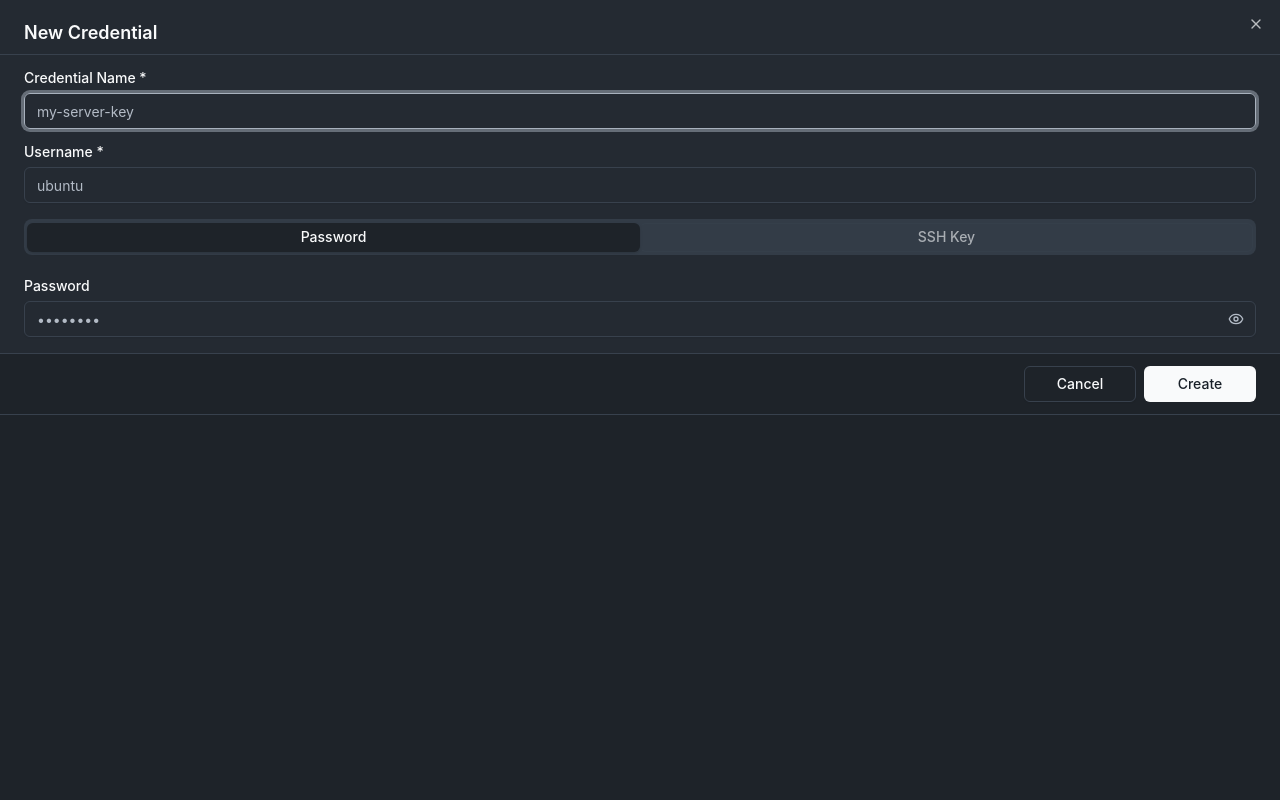
Test: Unsaved-changes guard — CredentialForm › 'Keep editing' dismisses the prompt and keeps the form open
The width and height of the screenshot is (1280, 800).
Type "x" into the field labelled "Credential Name *" at (640,111), box [24,93,1256,129]
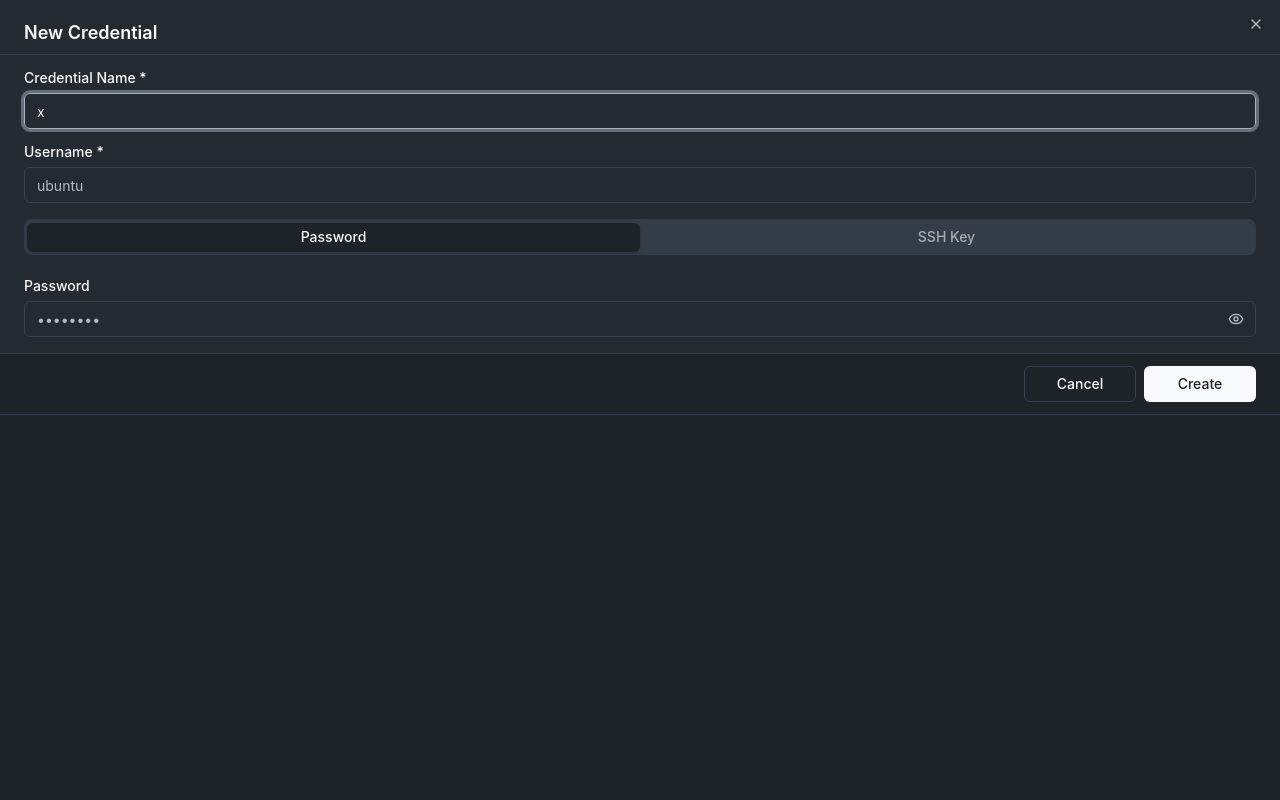
Click the button "Cancel" at (1080,384), box [1024,366,1136,402]
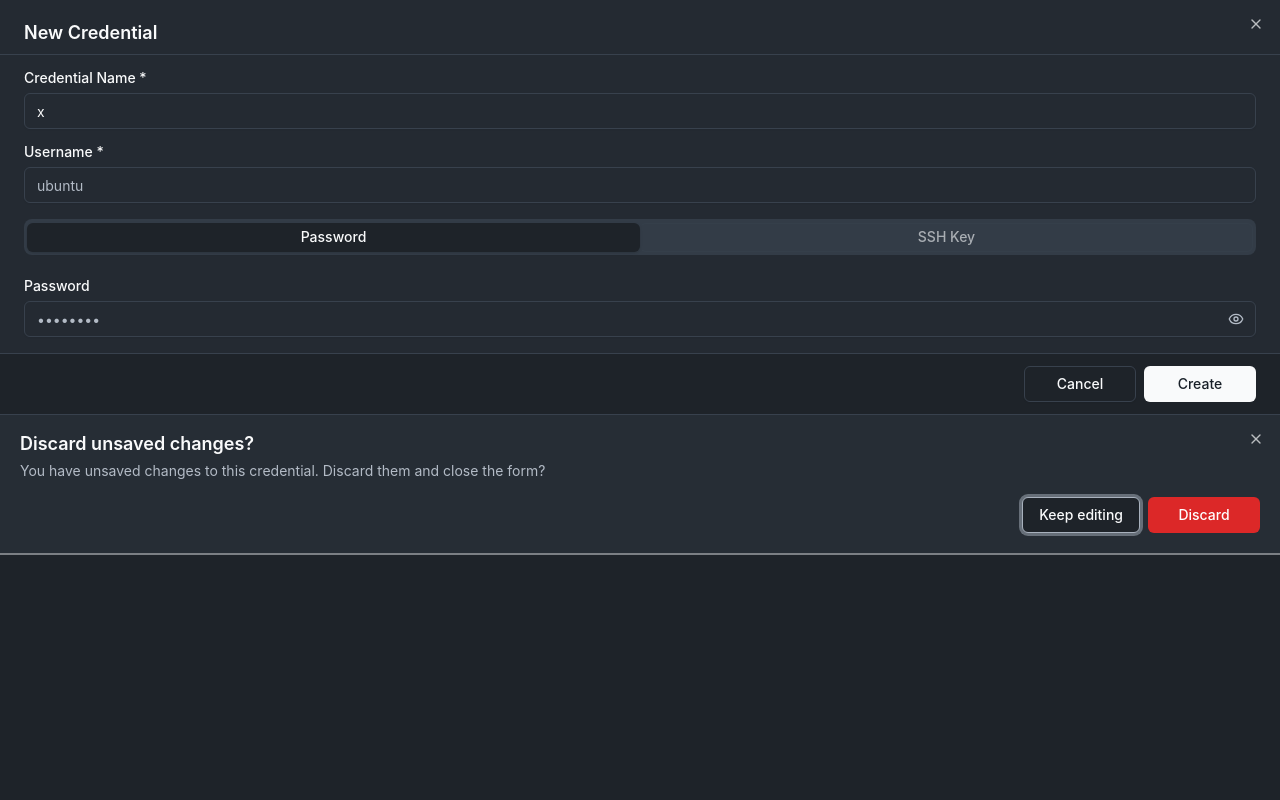
Expected: the dialog "Discard unsaved changes" is shown, [0,415,1279,555]
Click the button "Keep editing" at (1081,515), box [1022,497,1140,533]
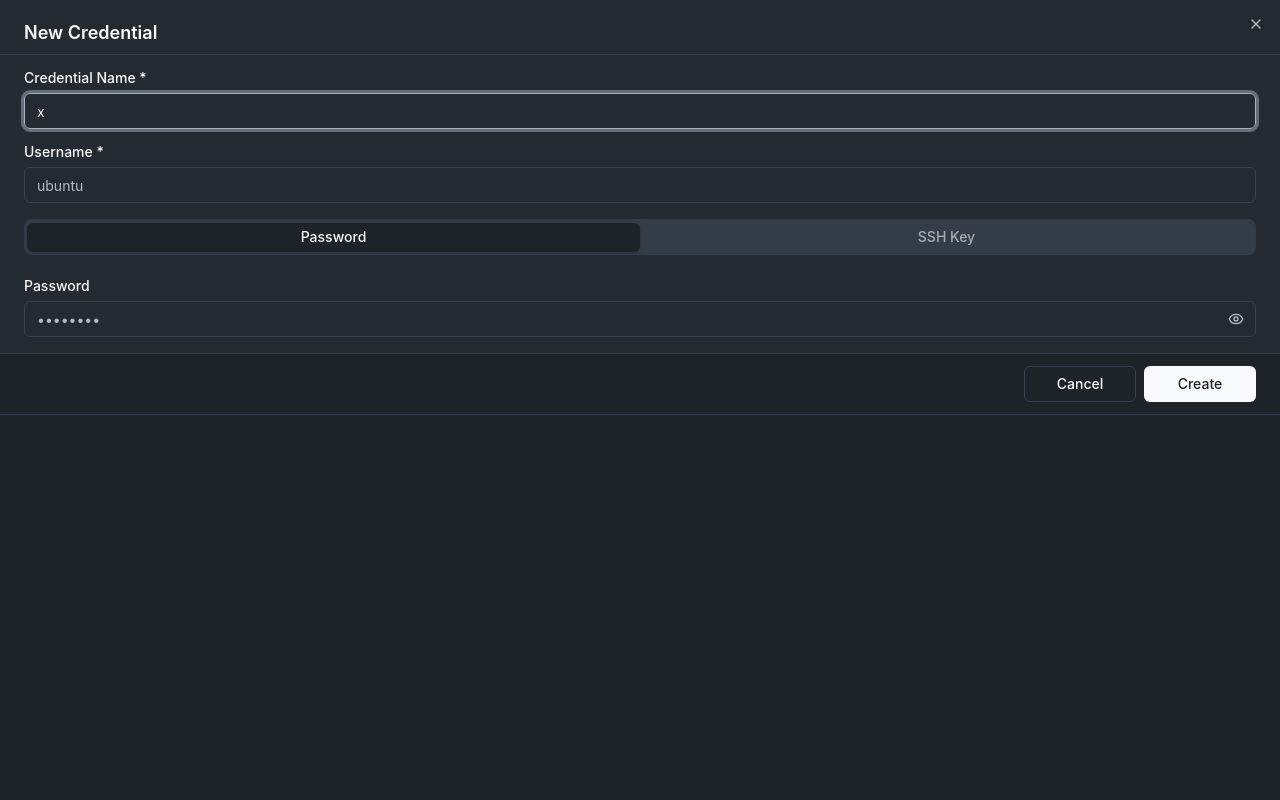
Expected: the heading "Discard unsaved changes" is gone
